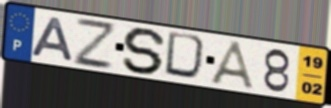8: (262, 47, 291, 93)
A: (207, 39, 259, 92), (27, 15, 76, 63)
D: (162, 30, 212, 83)
S: (121, 26, 170, 76)
Z: (72, 15, 116, 71)
